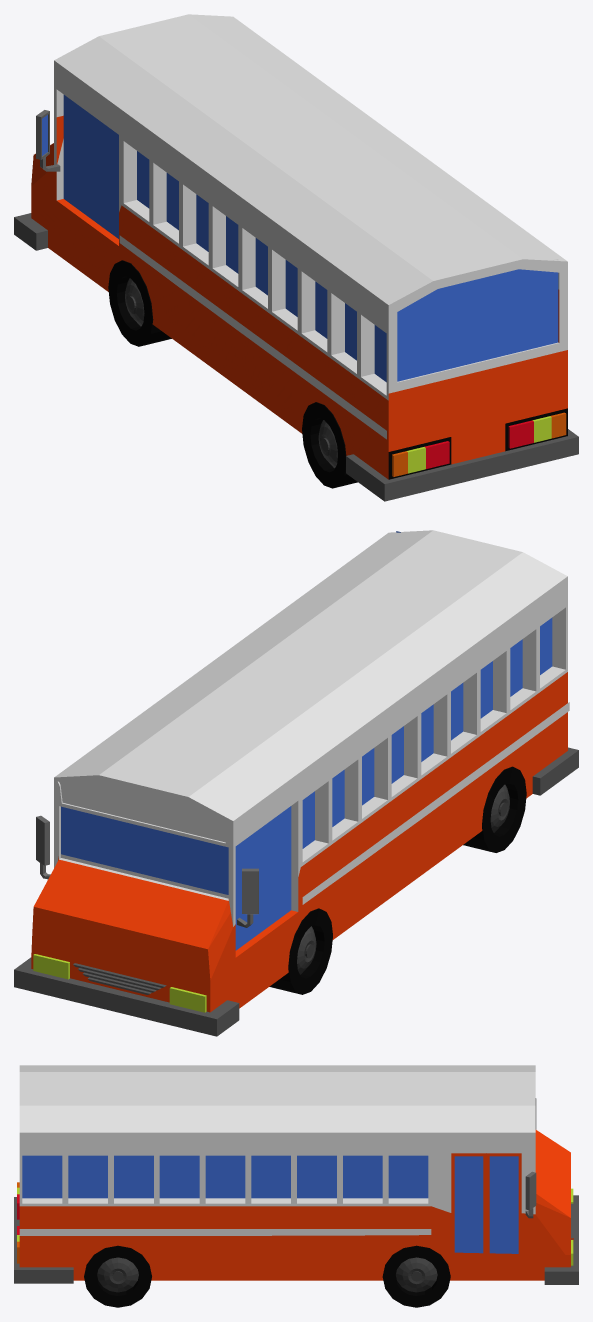
The model's file is bus_3.fbx.
3 renders of one model, top to bottom at view 1: azimuth 30°, elevation 25°; view 2: azimuth 150°, elevation 25°; view 3: azimuth 270°, elevation 25°, orthographic. The views are drawn at different scales.
Visible parts, largest first — view 1: SchoolBus; view 2: SchoolBus; view 3: SchoolBus.
Part boxes in pixels (x1,y1,x2,y2): SchoolBus: (14,14,578,501); SchoolBus: (14,530,578,1036); SchoolBus: (14,1065,578,1307).
Size of the model in its own units: 106 by 109 by 302.
